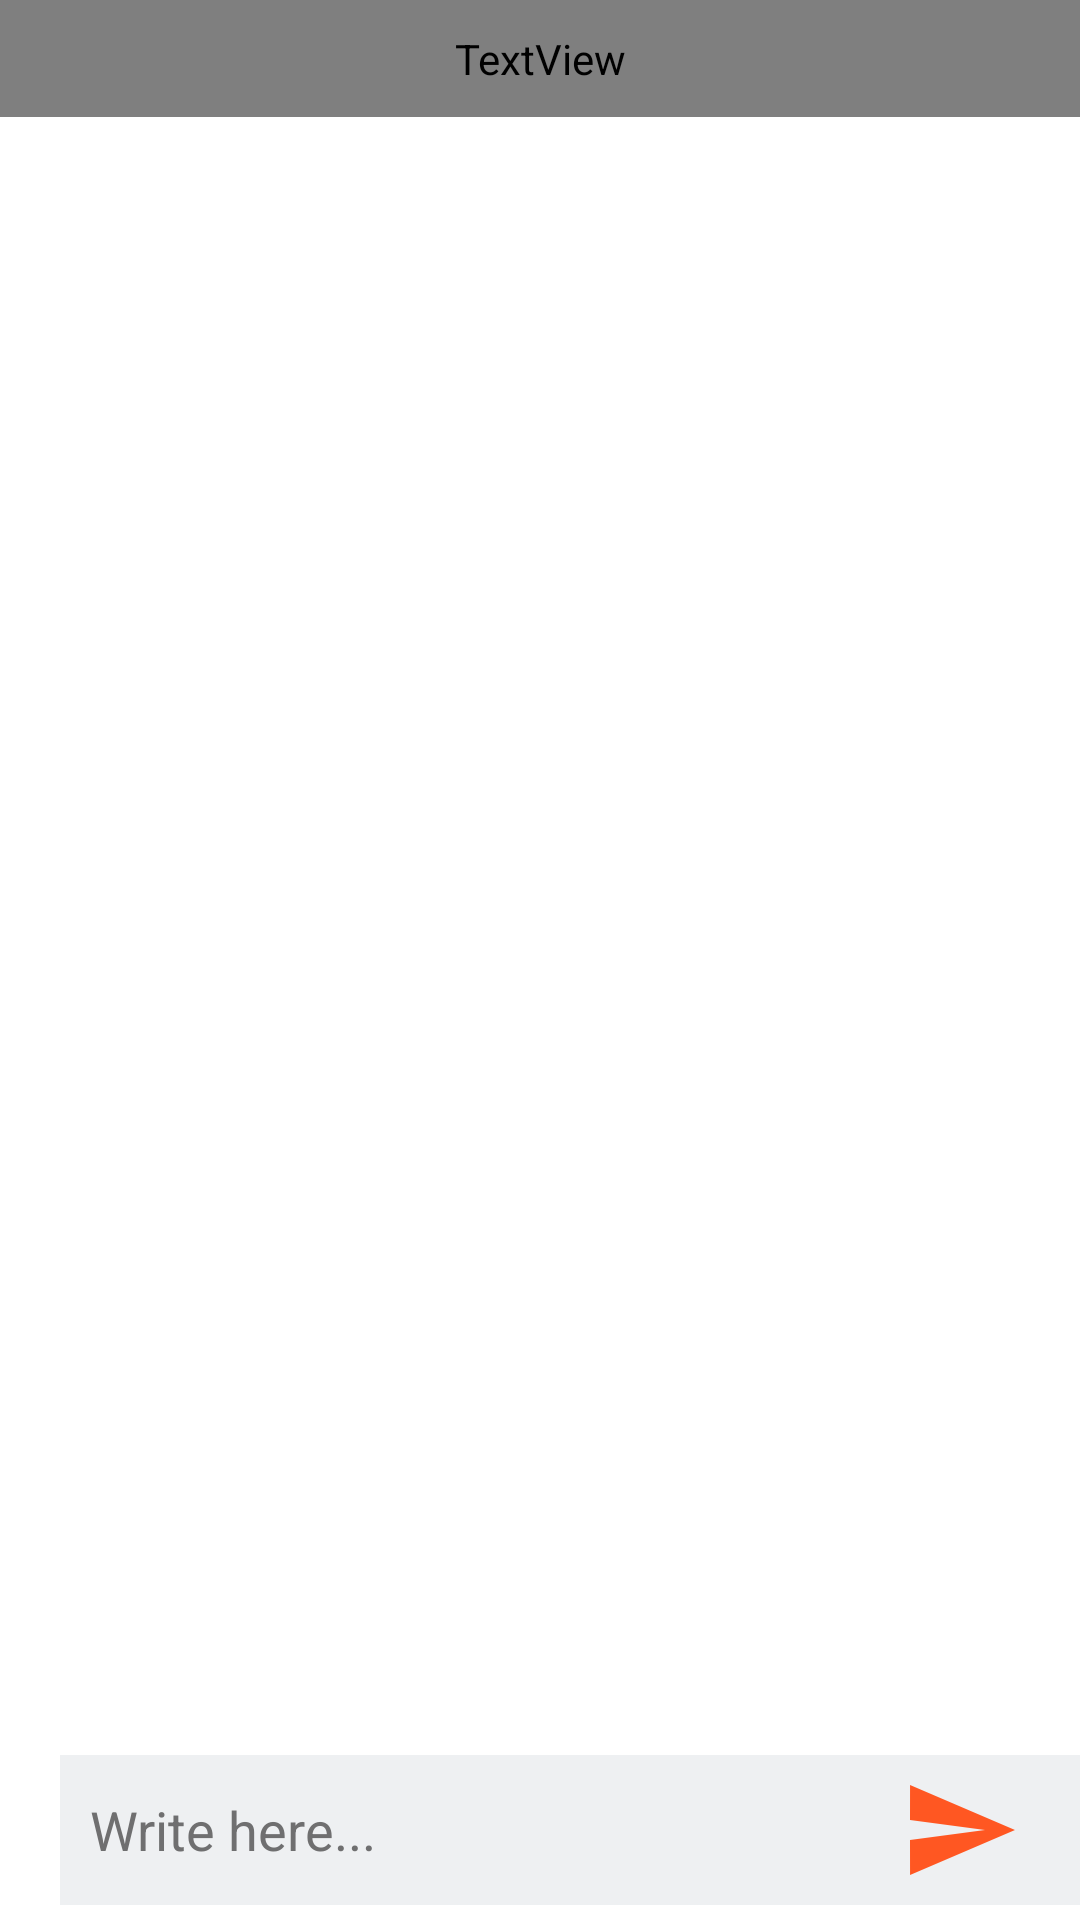

Icons on this 1080px x 1920px Android screen, each with its box as (x1, y1, x2, y2):
send: (910, 1785, 1015, 1875)
